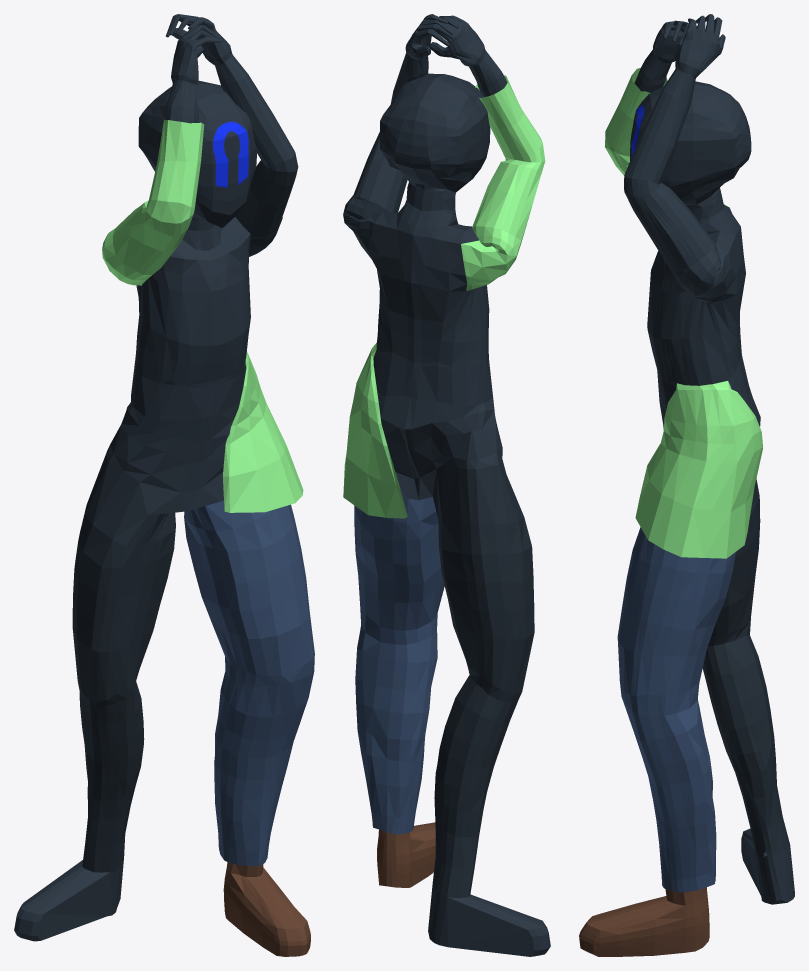
Rendered from Mar_Attack_000010.obj.
3 renders of one model, left to right at view 1: azimuth 30°, elevation 25°; view 2: azimuth 150°, elevation 25°; view 3: azimuth 270°, elevation 25°, orthographic. The views are drawn at different scales.
Parts seen in each view (by area): view 1: Cube.000_Cube.001; view 2: Cube.000_Cube.001; view 3: Cube.000_Cube.001.
Boxes of the visible parts, <box> form: Cube.000_Cube.001: <box>14,14,314,956</box>; Cube.000_Cube.001: <box>343,14,550,956</box>; Cube.000_Cube.001: <box>579,14,794,956</box>.
Size of the model in its own units: 1.21 by 4.2 by 0.9049.
